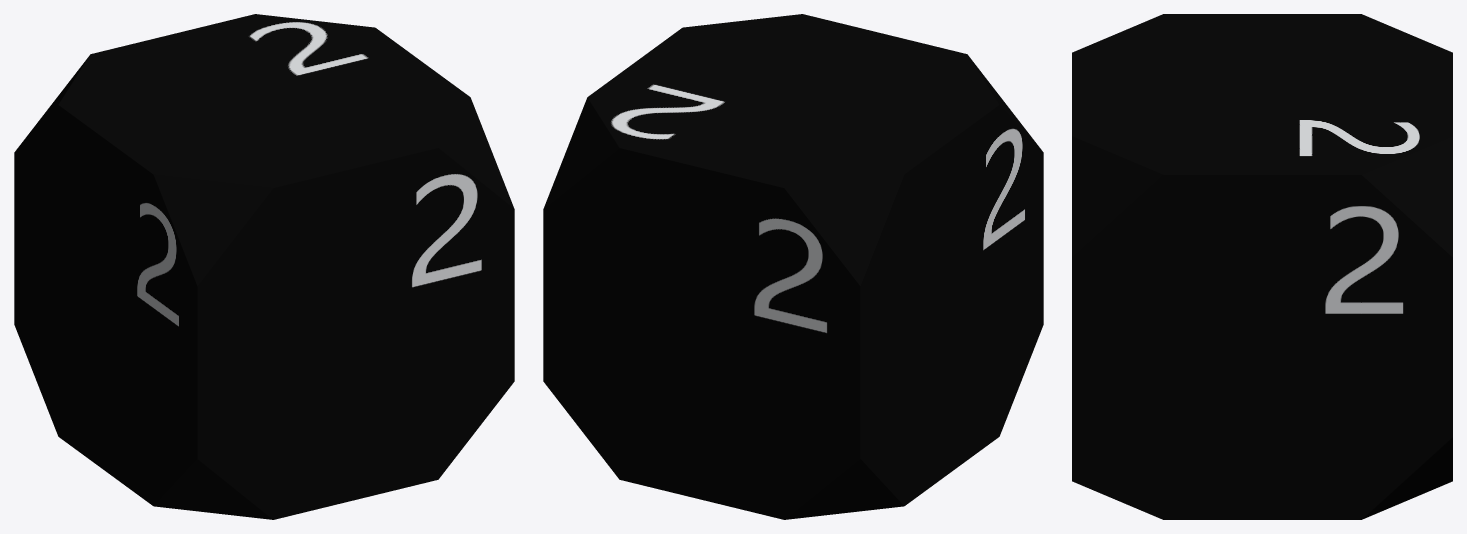
The model's file is BlockBase - Indici.fbx.
The picture shows the model from 3 angles, left to right: view 1: azimuth 30°, elevation 25°; view 2: azimuth 150°, elevation 25°; view 3: azimuth 270°, elevation 25°; orthographic projection. The views are drawn at different scales.
Parts seen in each view (by area): view 1: Cube.016; view 2: Cube.016; view 3: Cube.016.
Boxes of the visible parts, box(x1,y1,x2,y2) form: Cube.016: box(14, 14, 514, 519); Cube.016: box(543, 14, 1043, 519); Cube.016: box(1072, 14, 1452, 519).
Bounding box in the file's own units: 50 × 50 × 50.
1 material, 1 textured.
